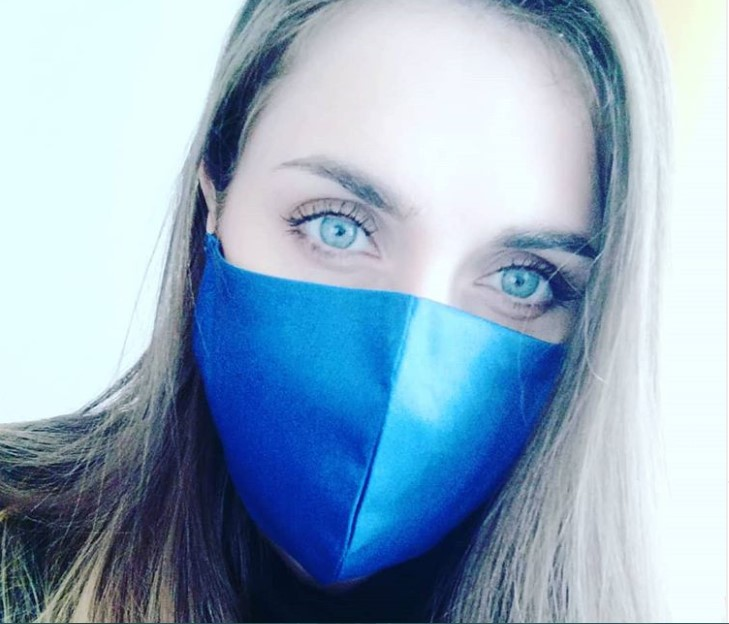face_with_mask: (179, 8, 664, 599)
